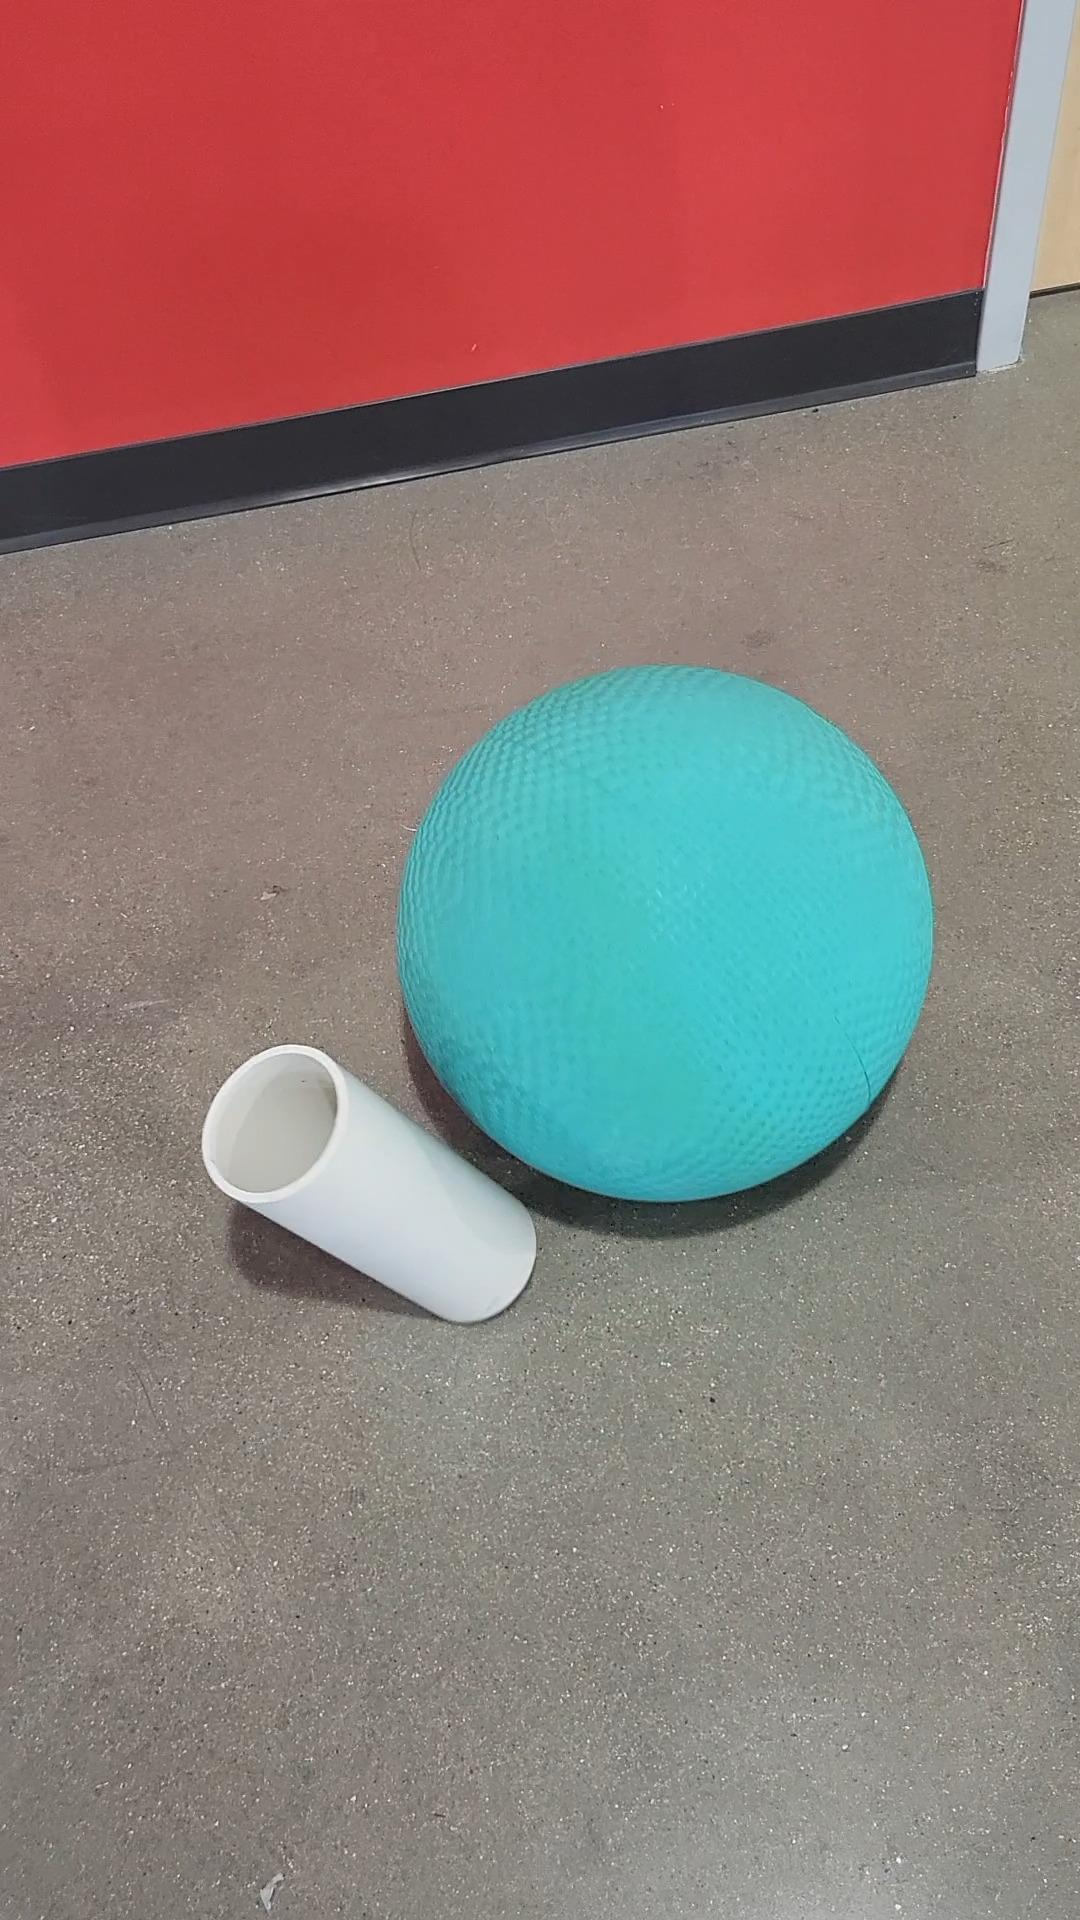algae: (393, 658, 935, 1205)
coral: (202, 1040, 546, 1328)
